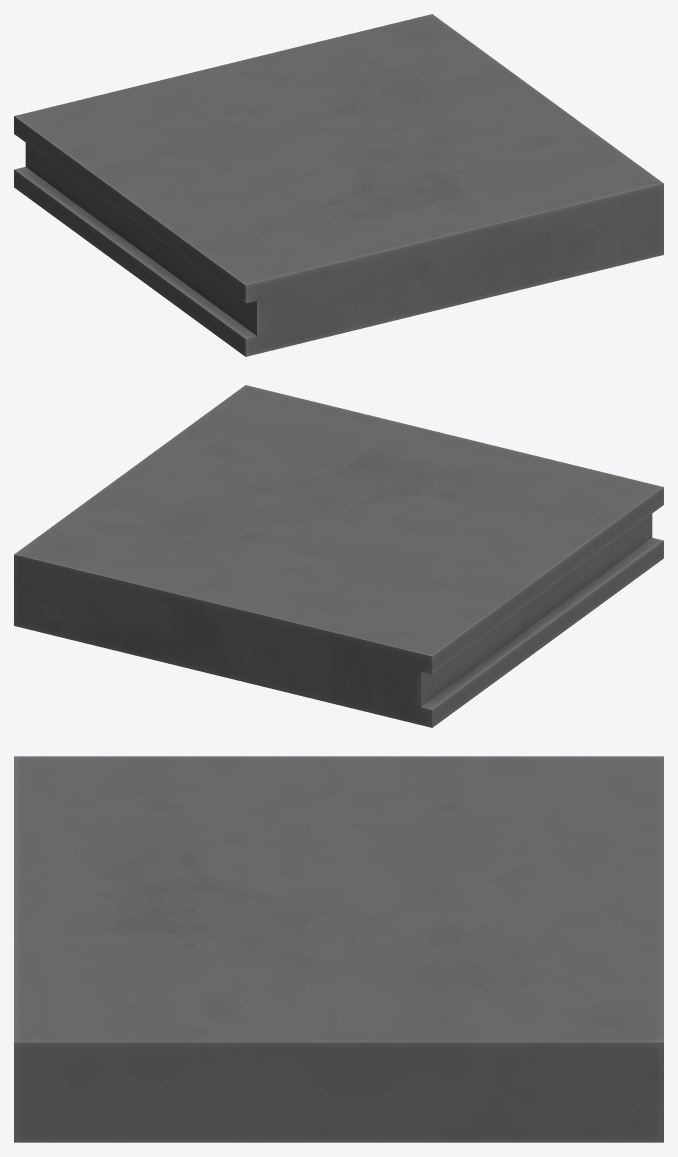
File: SingleMesh_SM_Stairs_Soda__2.fbx
3 renders of one model, top to bottom at view 1: azimuth 30°, elevation 25°; view 2: azimuth 150°, elevation 25°; view 3: azimuth 270°, elevation 25°, orthographic. The views are drawn at different scales.
Parts seen in each view (by area): view 1: Mat_Stairs_SodaDarker; view 2: Mat_Stairs_SodaDarker; view 3: Mat_Stairs_SodaDarker.
Part boxes in pixels (<box>): Mat_Stairs_SodaDarker: <box>14,14,663,356</box>; Mat_Stairs_SodaDarker: <box>14,385,663,727</box>; Mat_Stairs_SodaDarker: <box>14,756,663,1142</box>.
Size of the model in its own units: 2.27 by 0.3696 by 2.18.
1 material, 1 textured.
